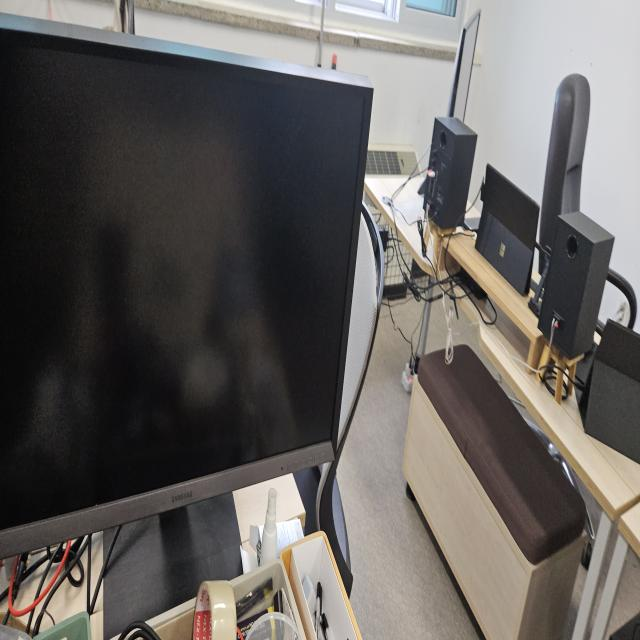Monitor: (2, 13, 376, 573)
